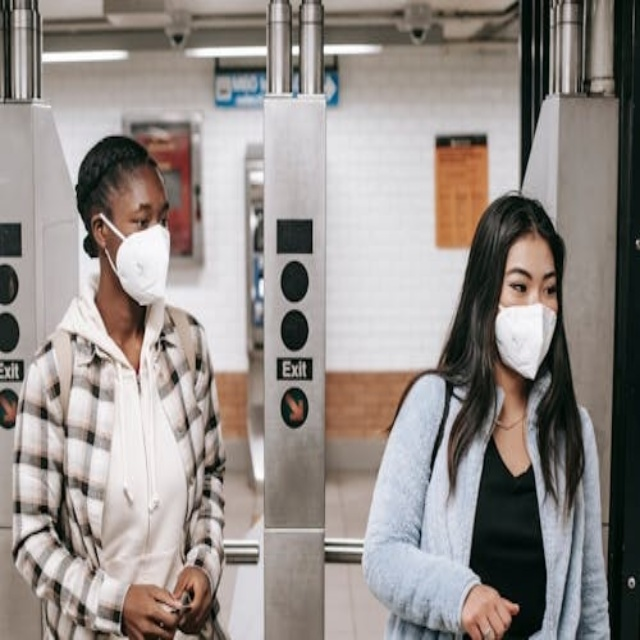Mascara: (100, 216, 171, 305), (492, 300, 558, 380)
Sin_gafas: (114, 194, 174, 234), (499, 259, 553, 294)
Sin_guantes: (127, 582, 190, 639), (461, 580, 520, 634), (173, 561, 215, 625)
